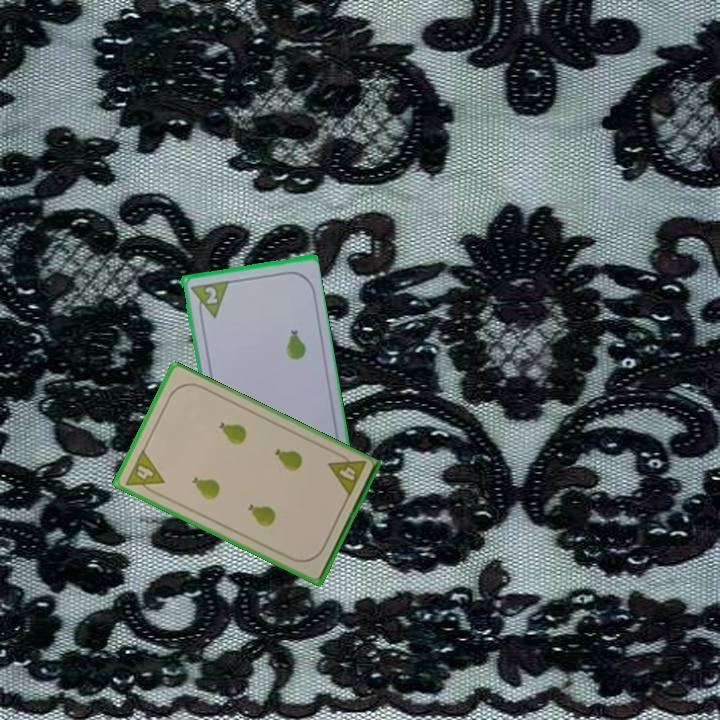2p: (201, 283, 220, 306)
4p: (122, 446, 167, 498), (325, 448, 369, 500)
